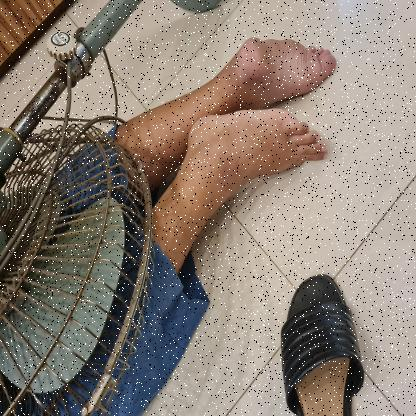leg: (116, 28, 345, 181), (149, 97, 334, 269)
